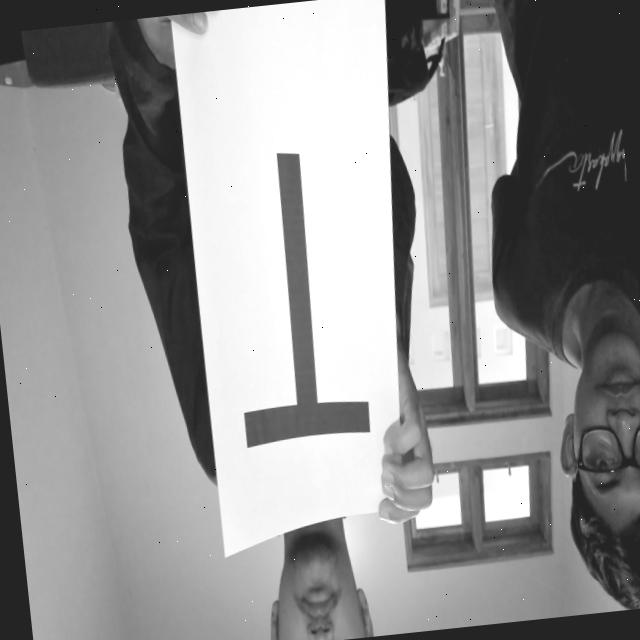t: (198, 104, 378, 462)
